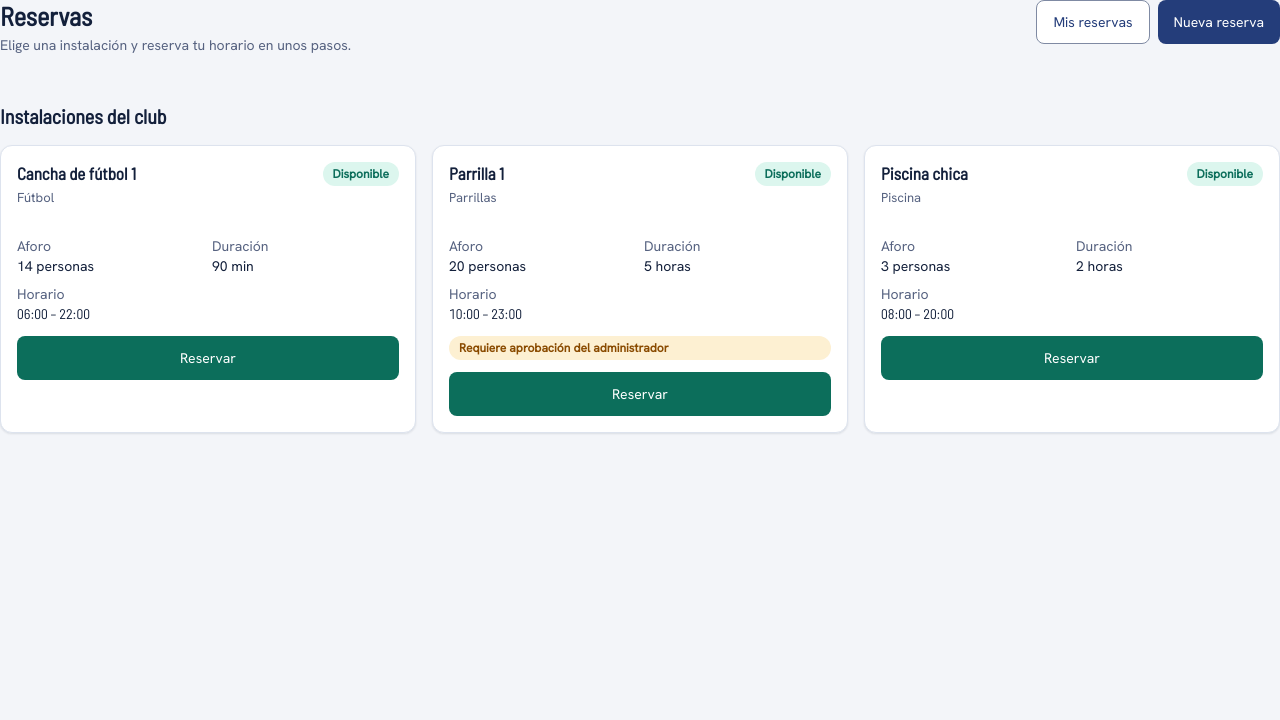
ReservationsPage — asistente de reserva (US-072, US-032) › el Stepper permite volver a un paso completado y "Atrás" está visible (móvil)
Expected: the heading "Cancha de fútbol 1" is shown, [17,162,136,185]
Click the button with aria-label "Reservar Cancha de fútbol 1" at (208,358), box [17,336,399,380]
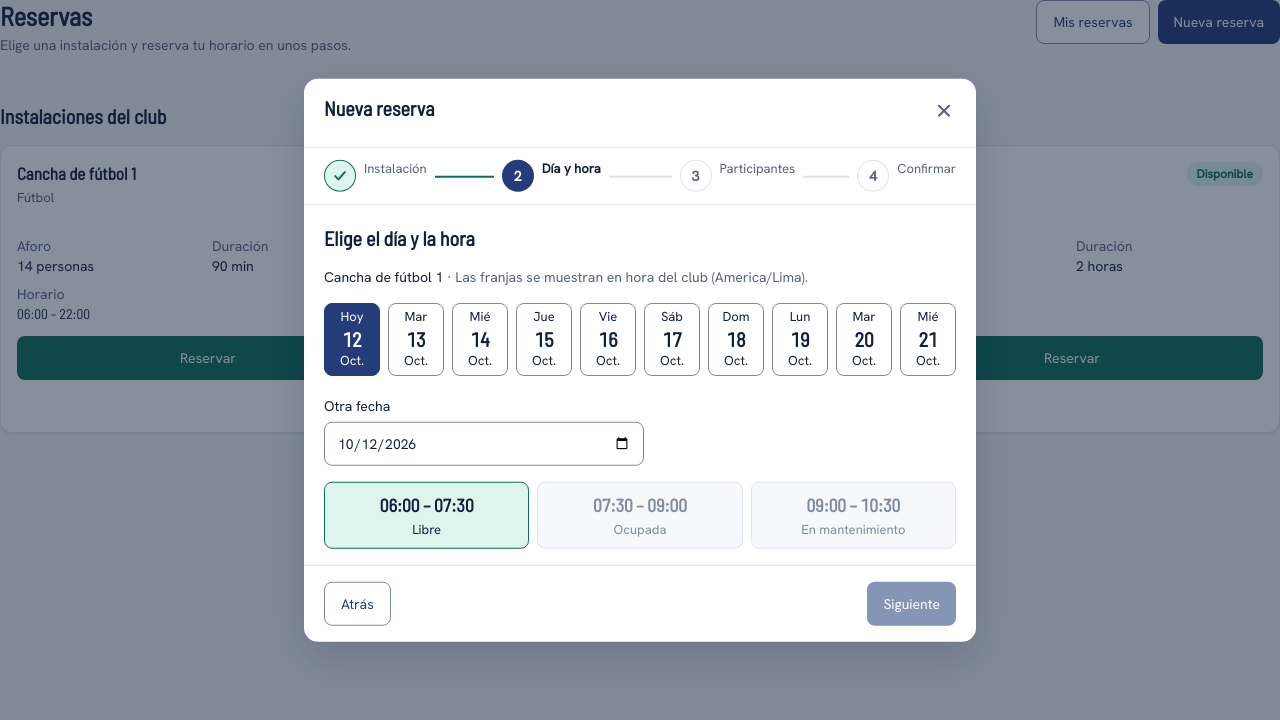
Click the button with aria-label "franja 06:00 – 07:30, disponible" at (427,515), box [324,481,529,548]
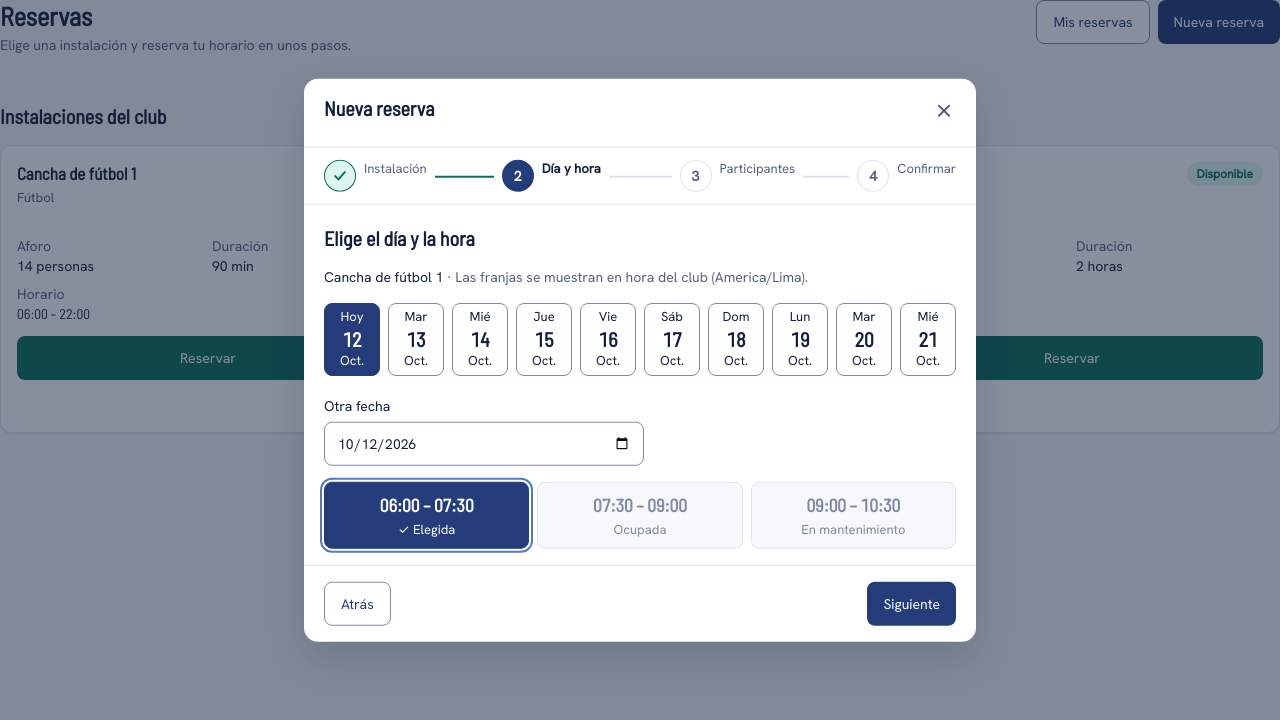
Click the button "Siguiente" at (912,603), box [867,581,956,625]
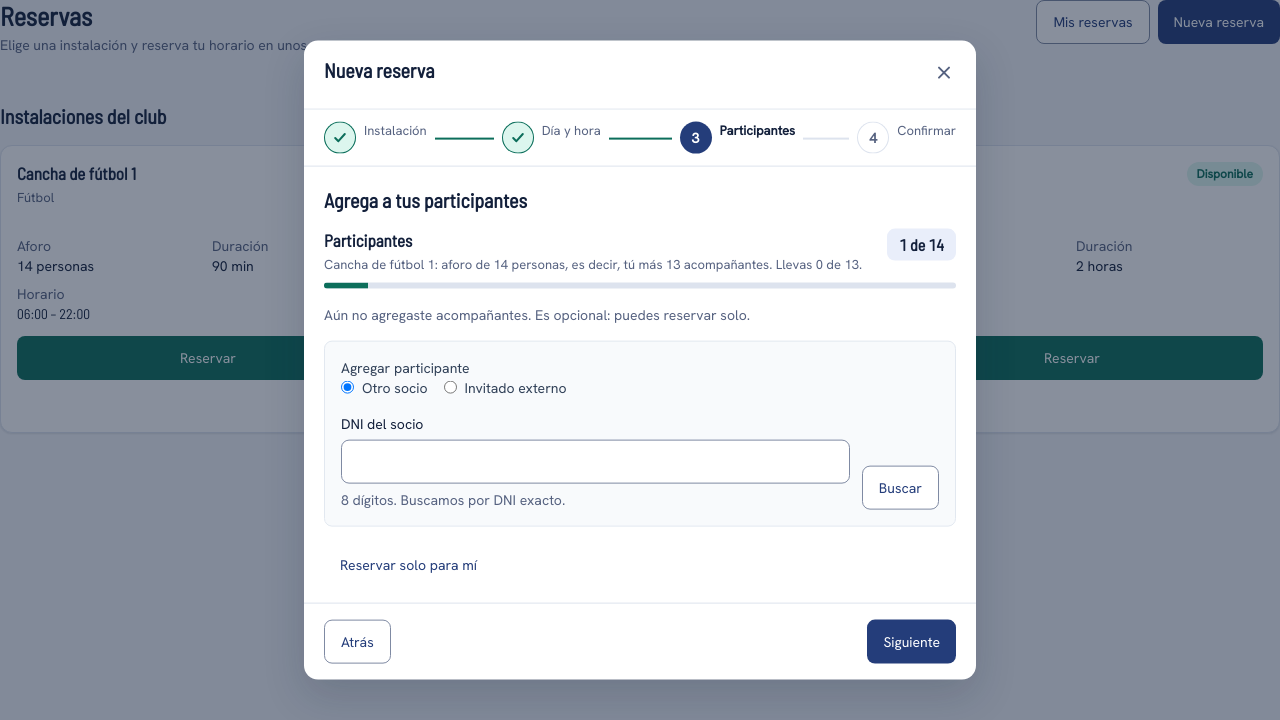
Click the button "Siguiente" at (912,641), box [867,619,956,663]
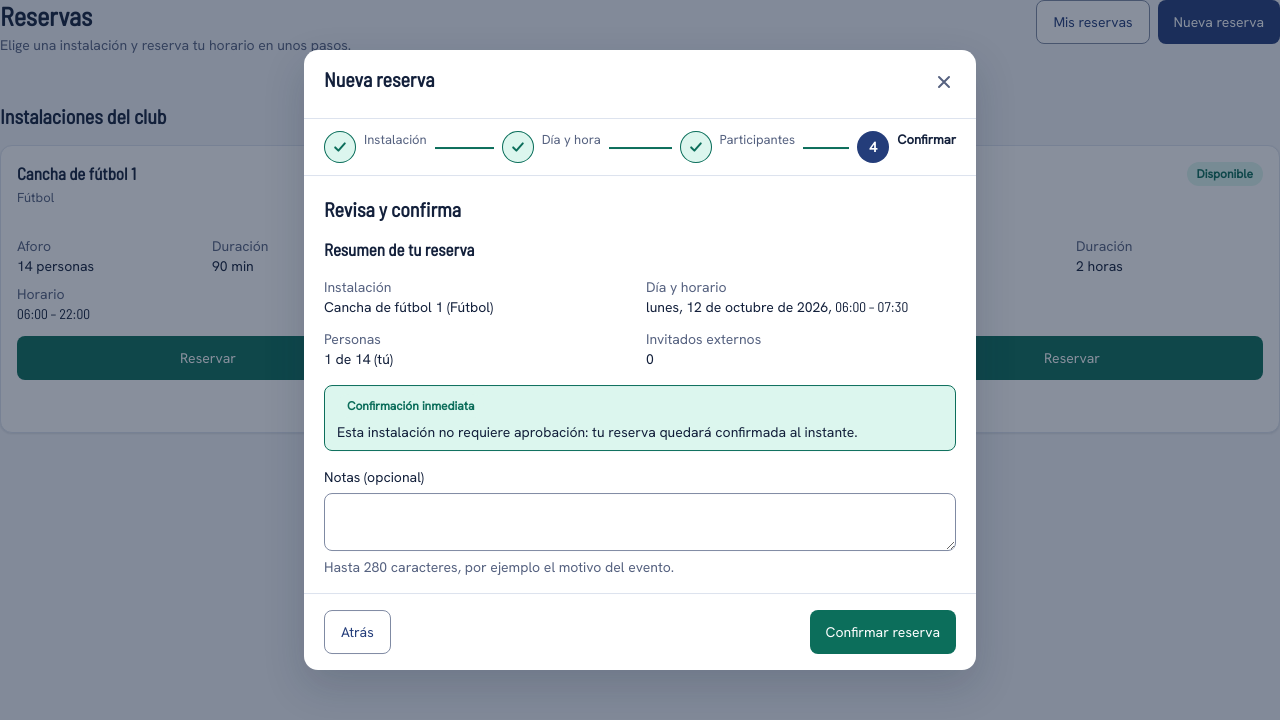
Expected: the button "Atrás" is shown, [324,610,391,654]
Expected: the heading "Resumen de tu reserva" is shown, [324,239,474,259]
Click the button "Día y hora" at (551,147), box [498,127,605,167]
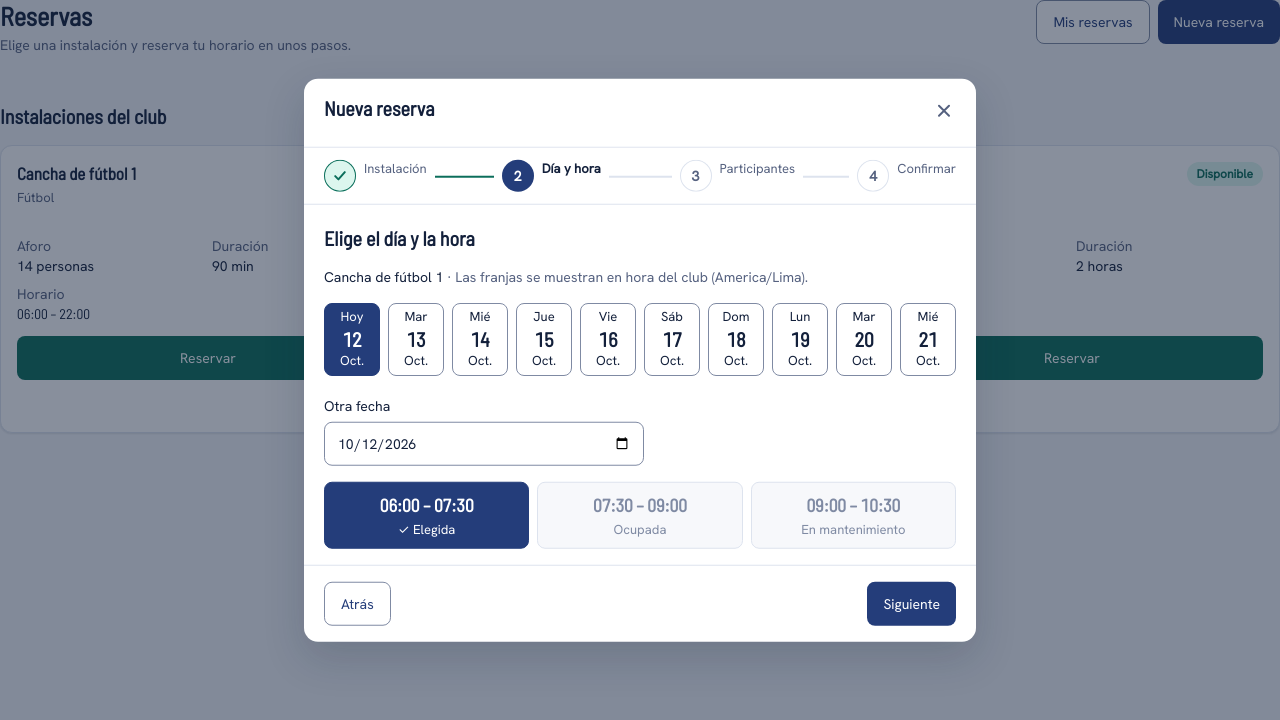
Expected: the heading "Elige el día y la hora" is shown, [324,226,475,250]
